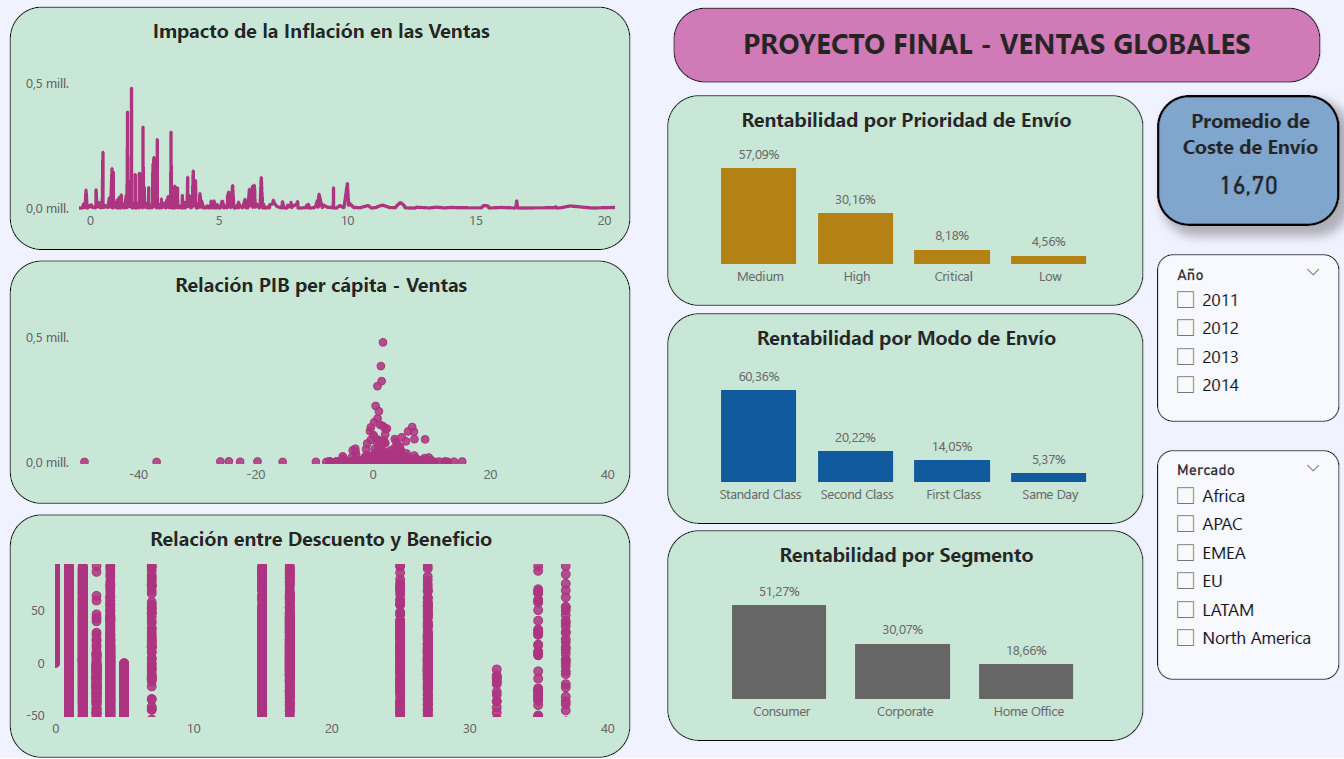

What the dashboard file says about the page in this screenshot:
{"tool":"powerbi","page":{"name":"Indicadores","canvas":[1280,720],"ordinal":1},"visuals":[{"type":"scatterChart","title":"Relación entre Descuento y Beneficio","fields":{"X":["Sum(conjunto_datos_final.Discount)"],"Y":["Ventas Globales.Profit"]},"box":[9.8,488.9,589.4,231.1],"z":0},{"type":"lineChart","title":"Impacto de la Inflación en las Ventas","fields":{"Category":["conjunto_datos_final.Inflation(%)"],"Y":["Sum(conjunto_datos_final.Sales)"]},"box":[9.8,7.3,589.4,231.1],"z":1000},{"type":"scatterChart","title":"Relación PIB per cápita - Ventas","fields":{"X":["conjunto_datos_final.GDP_Growth(%)"],"Y":["Sum(conjunto_datos_final.Sales)"]},"box":[9.8,248.2,589.4,231.1],"z":2000},{"type":"columnChart","title":"Rentabilidad por Prioridad de Envío","fields":{"Category":["Ventas Globales.Order_Priority"],"Y":["Sum(Ventas Globales.Profit)"]},"box":[633.7,91.5,452.4,200],"z":3000},{"type":"textbox","box":[640,7.5,613.8,71.2],"z":4000},{"type":"columnChart","title":"Rentabilidad por Modo de Envío","fields":{"Category":["conjunto_datos_final.Ship_Mode"],"Y":["Sum(Ventas Globales.Profit)"]},"box":[633.7,297.5,452.4,200],"z":5000},{"type":"columnChart","title":"Rentabilidad por Segmento","fields":{"Category":["Ventas Globales.Segment"],"Y":["Sum(Ventas Globales.Profit)"]},"box":[633.7,503.6,452.4,200],"z":6000},{"type":"slicer","fields":{"Values":["conjunto_datos_final.Year"]},"box":[1098.7,242.3,173.1,159],"z":7000},{"type":"card","title":"Promedio de Coste de Envío","fields":{"Values":["Avg(Ventas Globales.Shipping_Cost)"]},"box":[1098.7,91,173.1,124.4],"z":8000},{"type":"slicer","fields":{"Values":["conjunto_datos_final.Market"]},"box":[1098.7,428.2,173.1,217.9],"z":9000}]}

Visuals, with their boxes in screenshot pixels (x1, y1, x2, y2), scaled from the page's 1280x720 canvas onto the 1344x759 screenshot:
"Relación entre Descuento y Beneficio" scatterChart: BBox(10, 515, 629, 758)
"Impacto de la Inflación en las Ventas" lineChart: BBox(10, 8, 629, 251)
"Relación PIB per cápita - Ventas" scatterChart: BBox(10, 262, 629, 505)
"Rentabilidad por Prioridad de Envío" columnChart: BBox(665, 96, 1140, 307)
textbox: BBox(672, 8, 1316, 83)
"Rentabilidad por Modo de Envío" columnChart: BBox(665, 314, 1140, 524)
"Rentabilidad por Segmento" columnChart: BBox(665, 531, 1140, 742)
slicer - conjunto_datos_final.Year: BBox(1154, 255, 1335, 423)
"Promedio de Coste de Envío" card: BBox(1154, 96, 1335, 227)
slicer - conjunto_datos_final.Market: BBox(1154, 451, 1335, 681)
